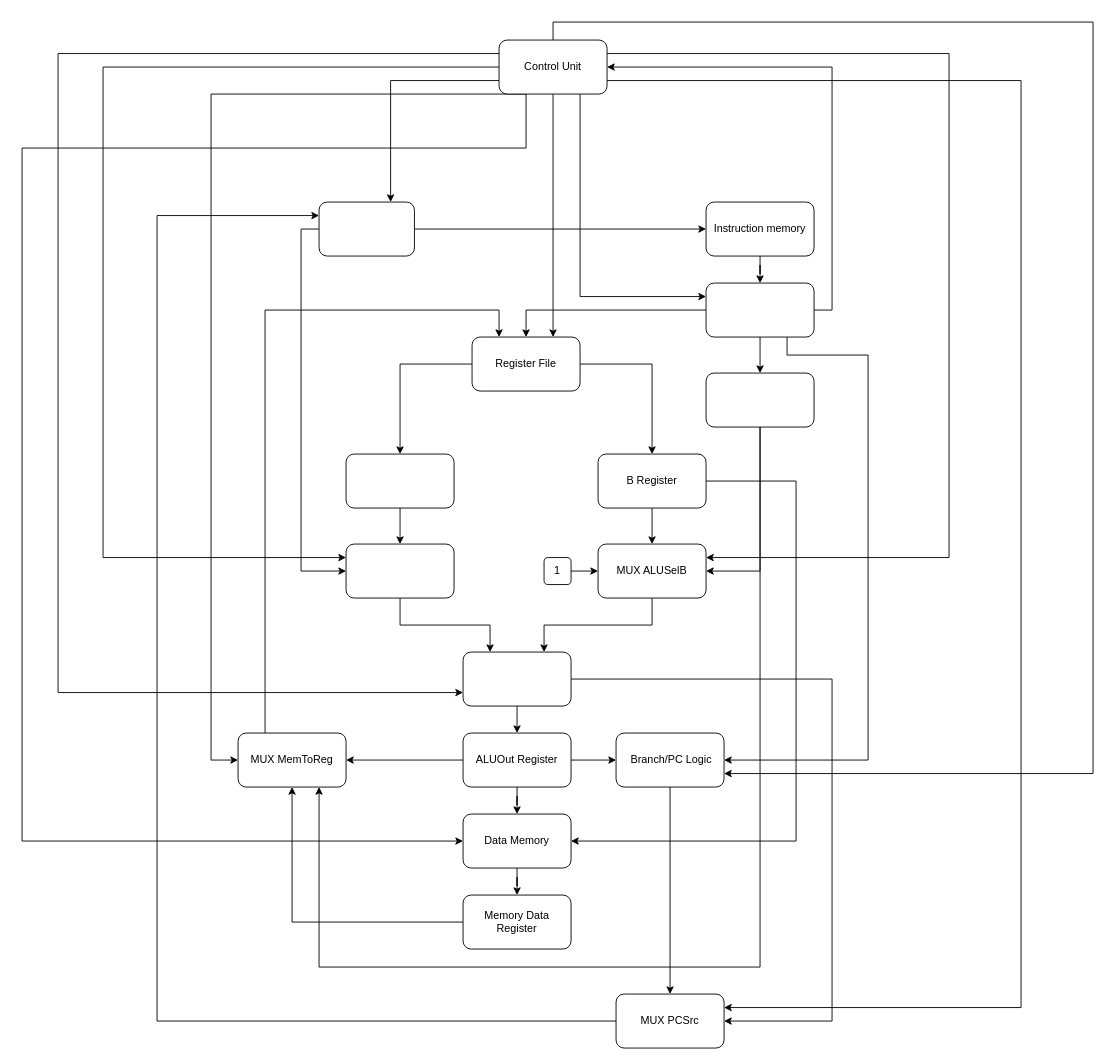
This 1116x1064 diagram has some shape labels left out. Each missing label, with the centre of its shape:
A Register: the point at 399,480
ALU: the point at 516,678
Immediate Ext.: the point at 759,399
Instruction Register: the point at 759,309
MUX ALUSelA: the point at 399,570
PC: the point at 366,228
